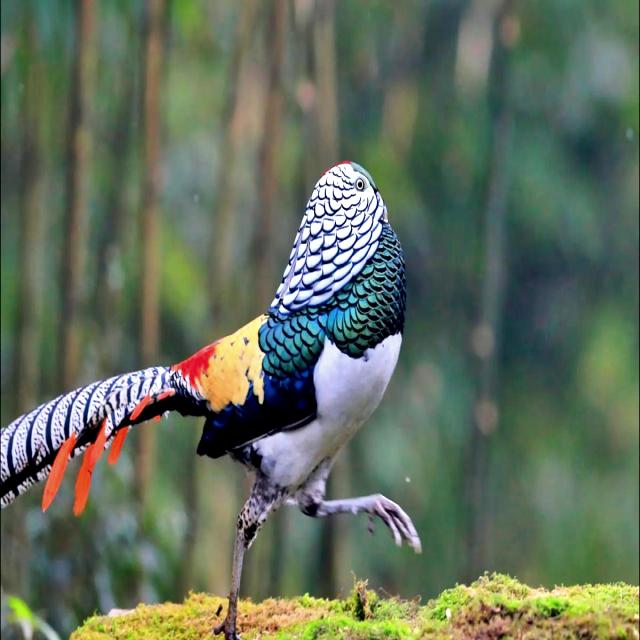Chrysolophus amherstiae: (0, 367, 179, 506)
